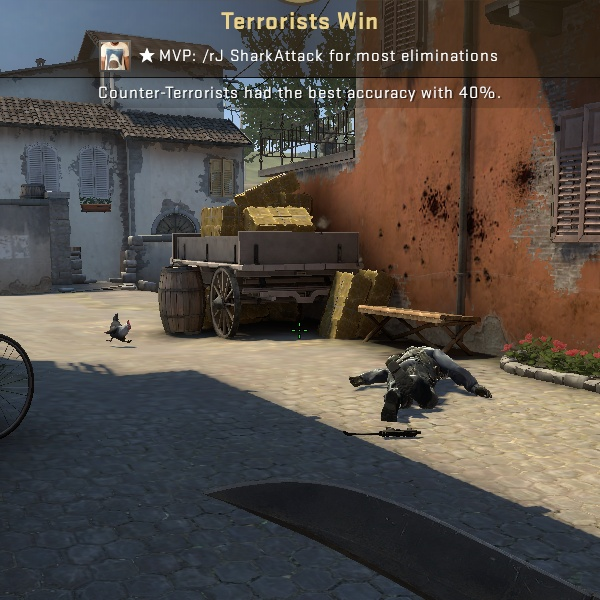t_body: (102, 308, 134, 345)
